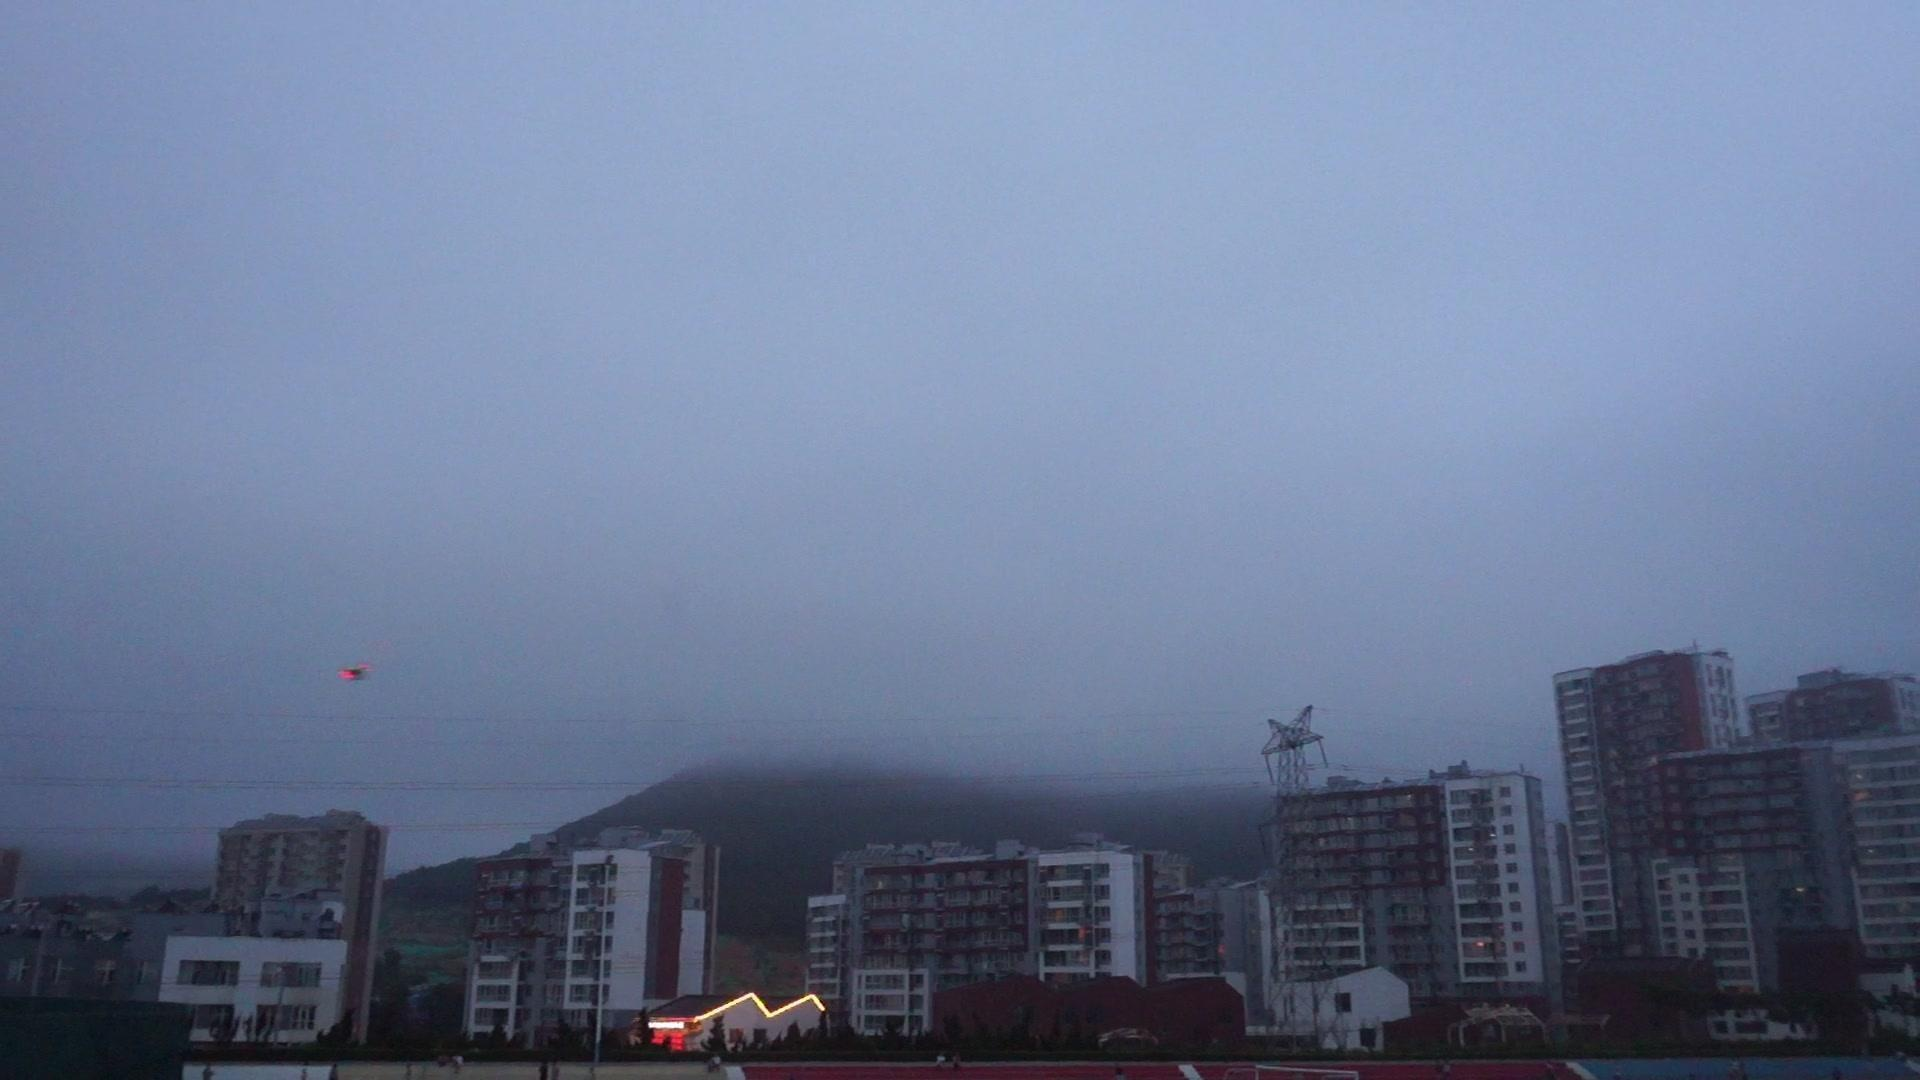UAV: (338, 665, 375, 680)
